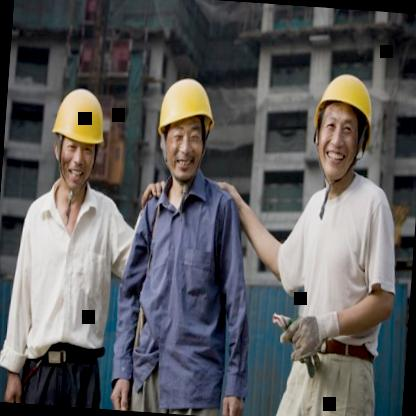helmet: (302, 54, 381, 192), (43, 73, 116, 198), (148, 62, 220, 188)
